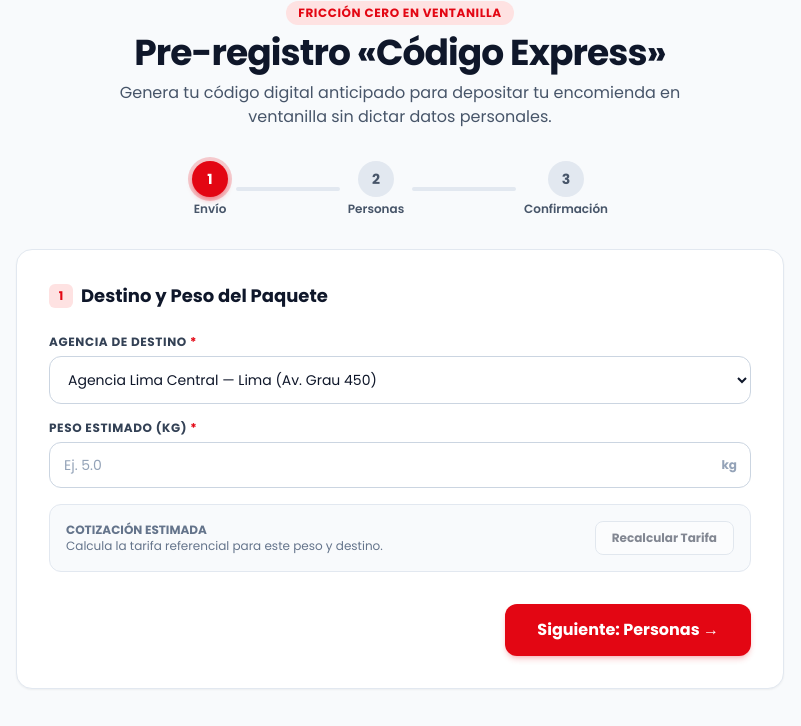
Test: Página de Pre-Registro Express (PreRegistro.tsx) › valida peso obligatorio en el Paso 1 antes de avanzar
Expected: the dropdown labelled "Agencia de Destino *" is shown, [49, 356, 751, 404]
Click the button "Siguiente: Personas →".
click(628, 630)  # box [505, 604, 751, 656]
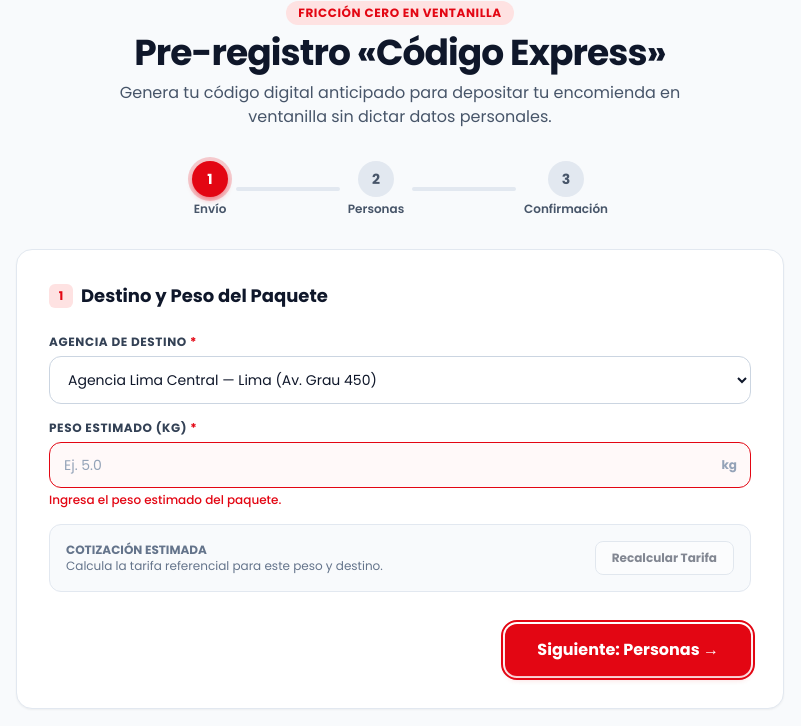
Result: the text "Ingresa el peso estimado del paquete." is shown at [49, 491, 281, 508]
